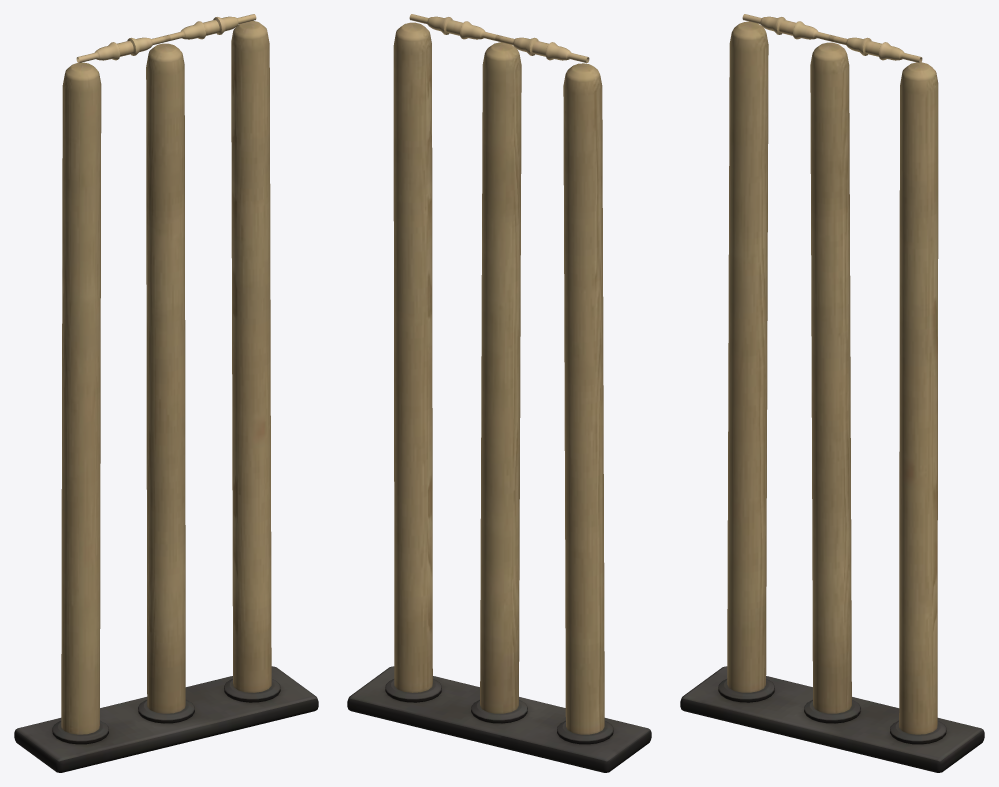
Rendered from cricket-stumps.glb.
3 renders of one model, left to right at view 1: azimuth 30°, elevation 25°; view 2: azimuth 150°, elevation 25°; view 3: azimuth 330°, elevation 25°, orthographic.
Parts seen in each view (by area): view 1: stumps, bail_1, bail_2; view 2: stumps, bail_1, bail_2; view 3: stumps, bail_2, bail_1.
Part boxes in pixels (left/top/right/bottom): stumps: left=14, top=20, right=318, bottom=772; bail_1: left=76, top=35, right=170, bottom=62; bail_2: left=163, top=14, right=256, bottom=40; stumps: left=347, top=22, right=651, bottom=772; bail_1: left=495, top=35, right=589, bottom=62; bail_2: left=409, top=14, right=502, bottom=40; stumps: left=680, top=21, right=984, bottom=772; bail_2: left=828, top=35, right=922, bottom=62; bail_1: left=742, top=14, right=834, bottom=41.
Bounding box in the file's own units: 0.292 × 0.7409 × 0.088.
Materials: 1 (1 with a texture image).
